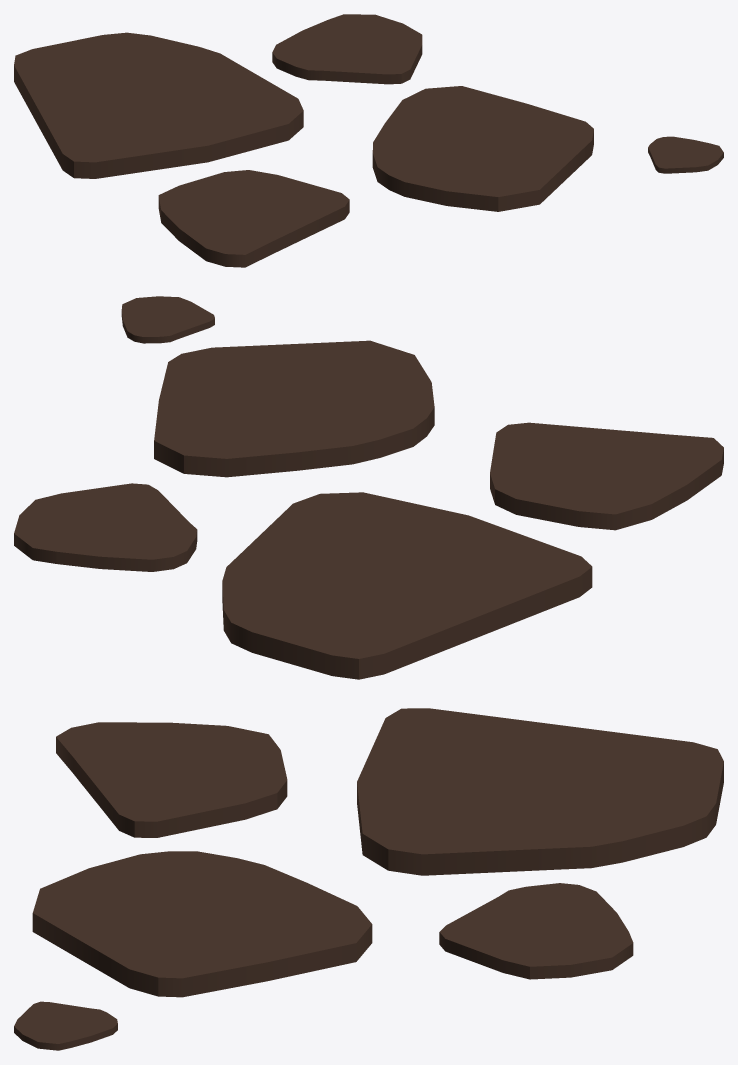
The model's file is Tile01.fbx.
3 renders of one model, top to bottom at view 1: azimuth 30°, elevation 25°; view 2: azimuth 150°, elevation 25°; view 3: azimuth 270°, elevation 25°, orthographic. The views are drawn at different scales.
Parts seen in each view (by area): view 1: Tile01; view 2: Tile01; view 3: Tile01.
Part boxes in pixels (box(x1,y1,x2,y2)): Tile01: box(14, 14, 723, 267); Tile01: box(14, 296, 723, 679); Tile01: box(14, 708, 723, 1050).
Bounding box in the file's own units: 59.32 × 1.84 × 55.43.
